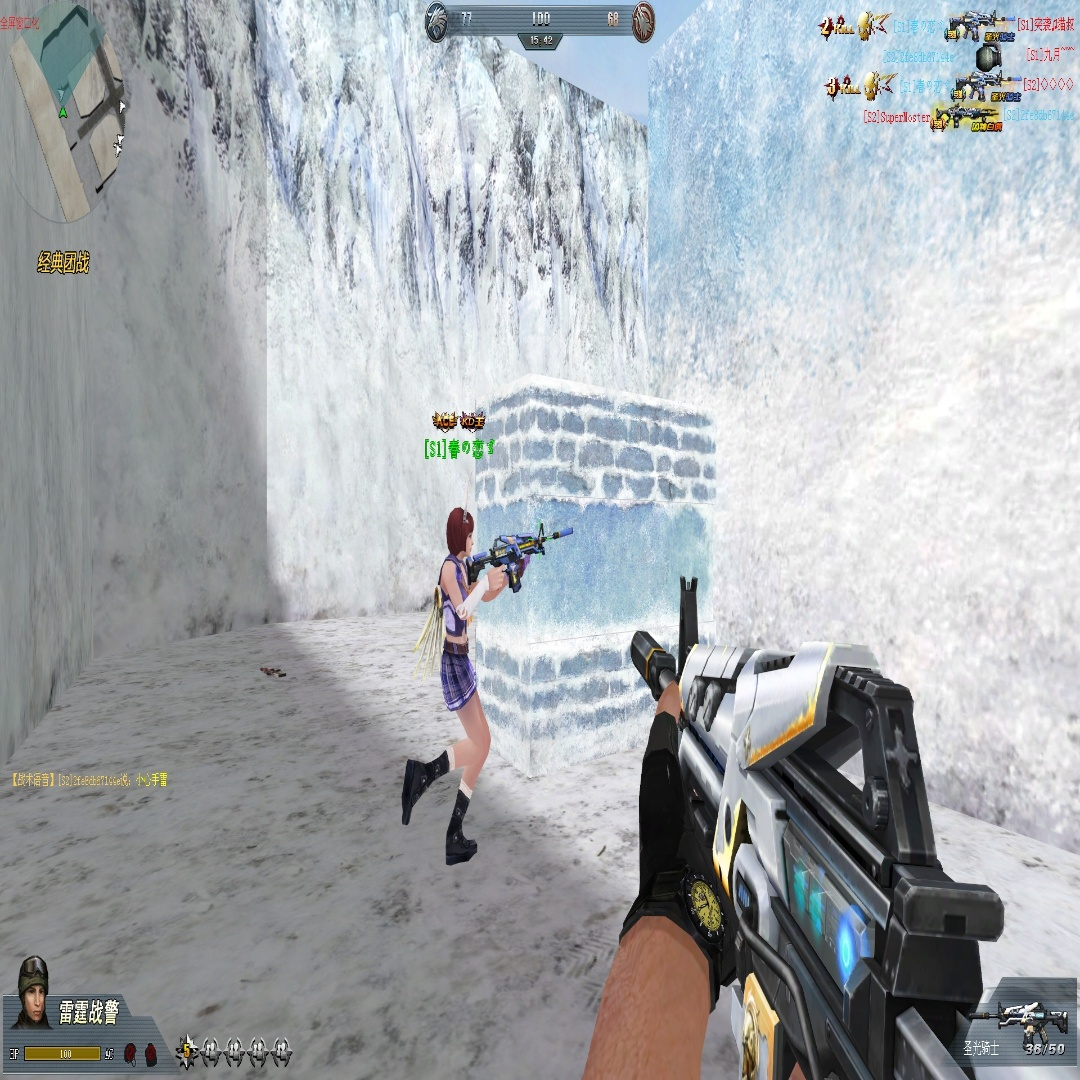t: (400, 506, 526, 864)
